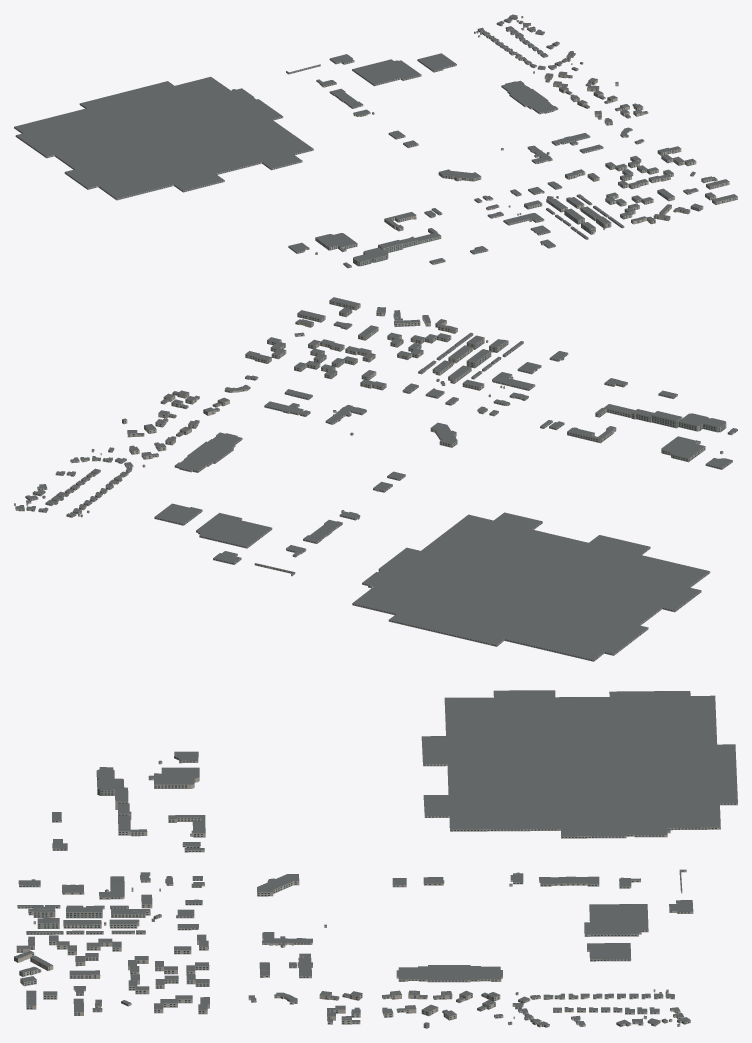
3 renders of one model, top to bottom at view 1: azimuth 30°, elevation 25°; view 2: azimuth 150°, elevation 25°; view 3: azimuth 270°, elevation 25°, orthographic. The views are drawn at different scales.
Visible parts, largest first — view 1: Buildings (-1, -9) Roof membrane, Buildings (-1, -9) Masonry brick, Buildings (-1, -9) Architectural tinted glass, Buildings (-1, -9) Architectural concrete; view 2: Buildings (-1, -9) Roof membrane, Buildings (-1, -9) Masonry brick, Buildings (-1, -9) Architectural tinted glass, Buildings (-1, -9) Architectural concrete, Buildings (-1, -9) Metal coping; view 3: Buildings (-1, -9) Roof membrane, Buildings (-1, -9) Masonry brick, Buildings (-1, -9) Architectural tinted glass, Buildings (-1, -9) Metal coping, Buildings (-1, -9) Architectural concrete.
Part boxes in pixels (box(x1,y1,x2,y2)): Buildings (-1, -9) Roof membrane: box(14, 14, 737, 266); Buildings (-1, -9) Masonry brick: box(14, 16, 737, 268); Buildings (-1, -9) Architectural tinted glass: box(14, 17, 736, 267); Buildings (-1, -9) Architectural concrete: box(353, 210, 611, 266); Buildings (-1, -9) Roof membrane: box(14, 297, 737, 659); Buildings (-1, -9) Masonry brick: box(14, 300, 737, 661); Buildings (-1, -9) Architectural tinted glass: box(15, 301, 737, 660); Buildings (-1, -9) Architectural concrete: box(466, 338, 726, 432); Buildings (-1, -9) Metal coping: box(14, 298, 735, 657); Buildings (-1, -9) Roof membrane: box(14, 690, 737, 1025); Buildings (-1, -9) Masonry brick: box(14, 692, 737, 1028); Buildings (-1, -9) Architectural tinted glass: box(14, 693, 735, 1027); Buildings (-1, -9) Metal coping: box(14, 690, 726, 1024); Buildings (-1, -9) Architectural concrete: box(33, 771, 131, 928).
Size of the model in its own units: 1183 by 14.82 by 1078.
